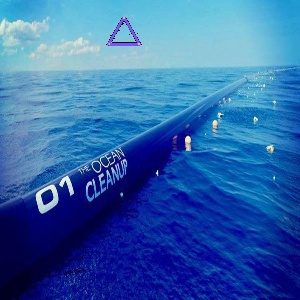triangle: (104, 14, 144, 49)
